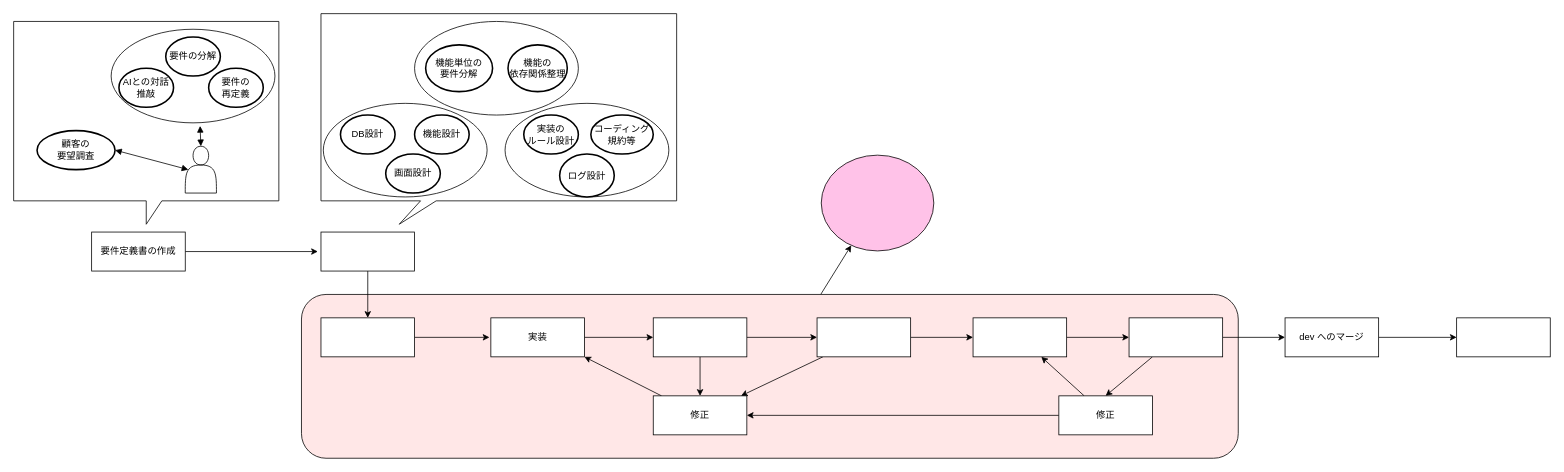
Image size: 1564x472. Some labels were removed from this diagram. The shapes that lost their labels are listed below. From the top down, each one's box as (x1, y1, x2, y2) in pixels, then its label:
(184, 145, 216, 193): you
(820, 154, 934, 251): この一連の流れを 機能ごとに並列処理 することで開発速度上昇
(320, 231, 415, 271): 設計
(320, 317, 415, 357): 機能単位で ブランチを切る
(652, 317, 747, 357): CIテスト
(816, 317, 911, 357): AI実装レビュー
(972, 317, 1067, 357): テスト実装
(1128, 317, 1223, 357): AIテストレビュー
(1456, 317, 1550, 357): main へのマージ
